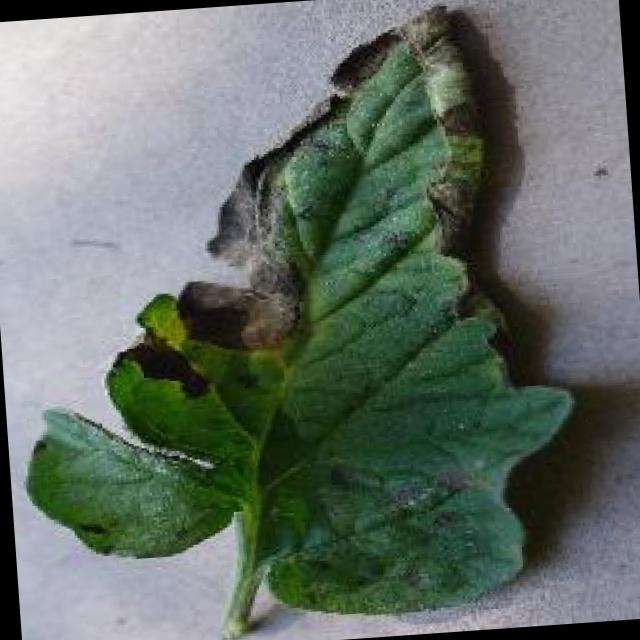Tomato_Early_Blight: (103, 1, 498, 397)
